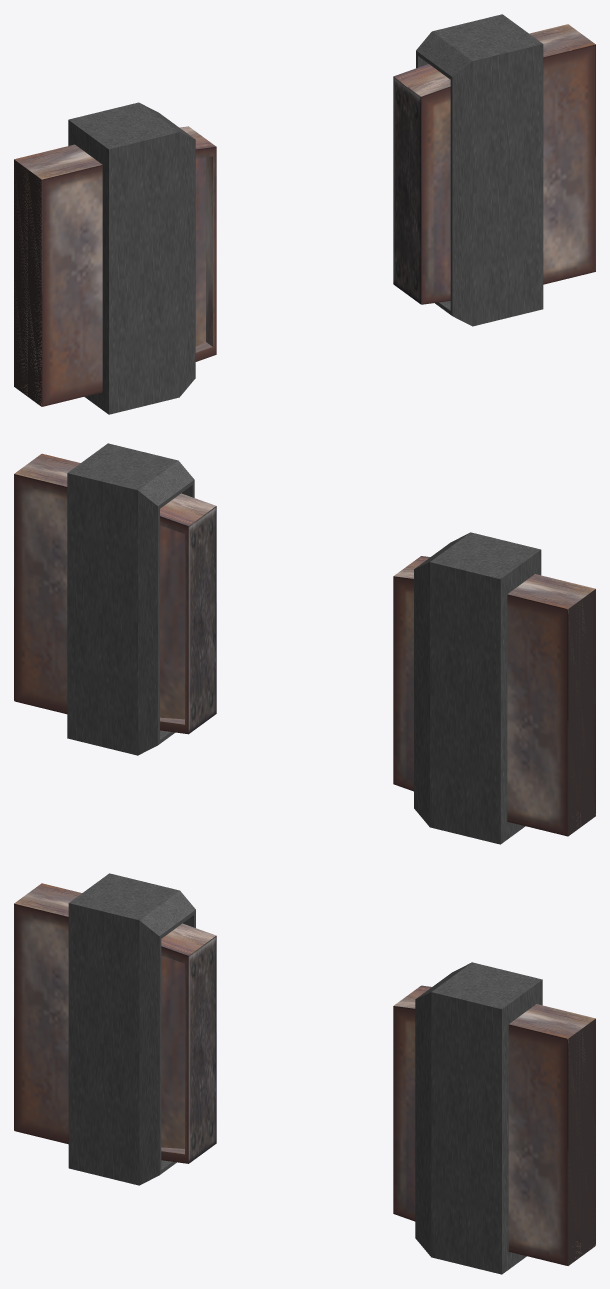
Rendered from door.fbx.
3 views of the same model, one above another, from view 1: azimuth 30°, elevation 25°; view 2: azimuth 150°, elevation 25°; view 3: azimuth 330°, elevation 25° (orthographic).
Parts seen in each view (by area): view 1: Connector_R, Connector_L, Door_L, Door_R; view 2: Connector_R, Connector_L, Door_L, Door_R; view 3: Connector_L, Connector_R, Door_R, Door_L.
Part boxes in pixels (x1,y1,x2,y2): Connector_R: (416, 14, 543, 326); Connector_L: (68, 102, 195, 414); Door_L: (14, 126, 216, 406); Door_R: (393, 24, 595, 304); Connector_R: (67, 443, 194, 755); Connector_L: (414, 532, 541, 844); Door_L: (393, 556, 595, 836); Door_R: (14, 453, 216, 734); Connector_L: (68, 873, 195, 1185); Connector_R: (415, 962, 542, 1274); Door_R: (393, 985, 595, 1265); Door_L: (14, 883, 216, 1163).
Size of the model in its own units: 1142 by 522 by 147.
